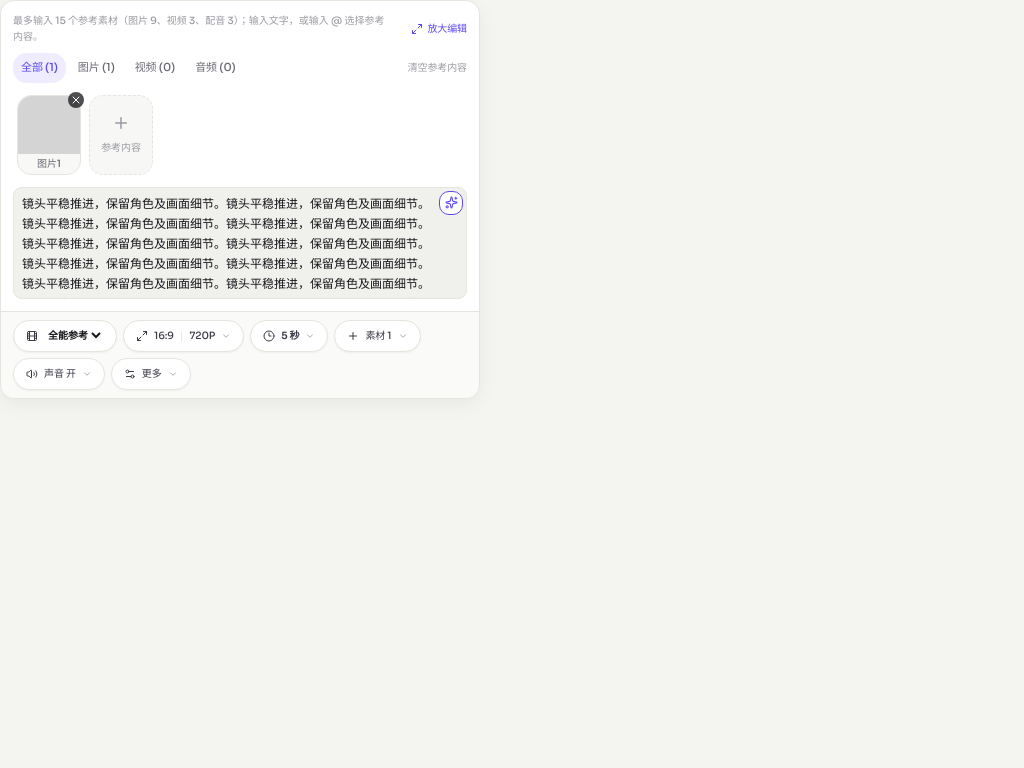
Seedance 1.5 Pro controls › keeps portrait settings in More without a nested composer scroll area for standard
Click the button with aria-label "高级设置": point(151, 374) [111,358,191,390]
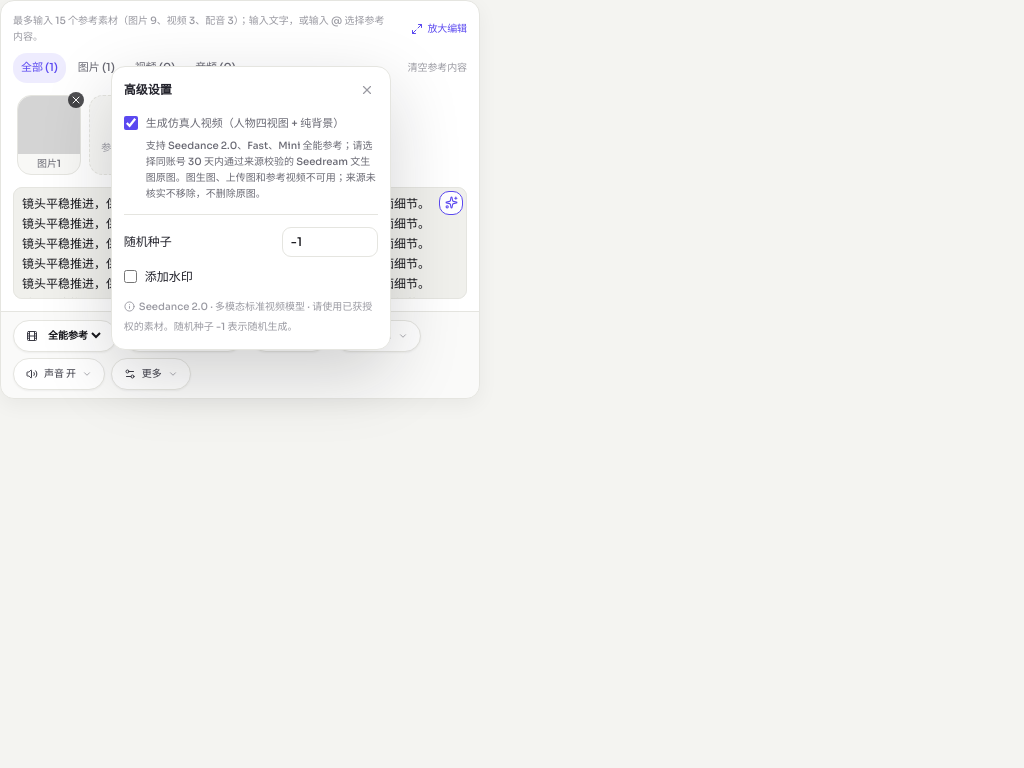
Check: the checkbox labelled "生成仿真人视频（人物四视图 + 纯背景）" is checked, box [124,116,138,130]
